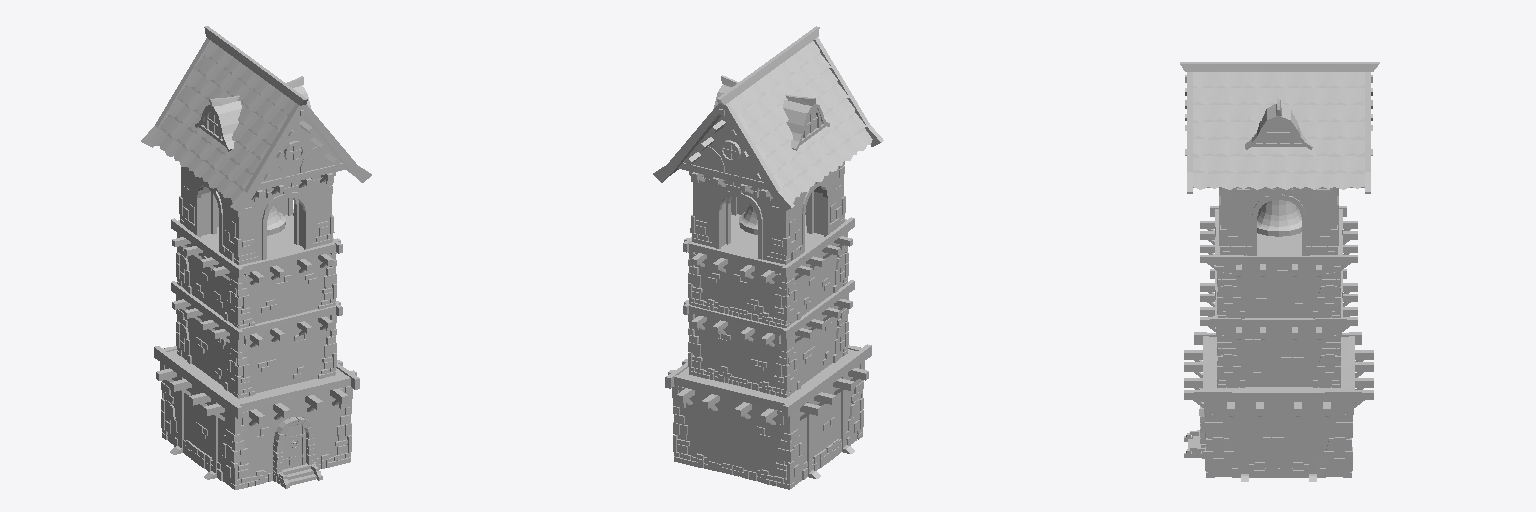
The model's file is Bell_Tower.obj.
3 renders of one model, left to right at view 1: azimuth 30°, elevation 25°; view 2: azimuth 150°, elevation 25°; view 3: azimuth 270°, elevation 25°, orthographic.
Parts seen in each view (by area): view 1: Bell_Tower_Cube.296; view 2: Bell_Tower_Cube.296; view 3: Bell_Tower_Cube.296.
Part boxes in pixels (x1,y1,x2,y2): Bell_Tower_Cube.296: (141, 26, 371, 489); Bell_Tower_Cube.296: (653, 26, 883, 489); Bell_Tower_Cube.296: (1180, 62, 1379, 481).
Size of the model in its own units: 1.94 by 4.76 by 2.23.